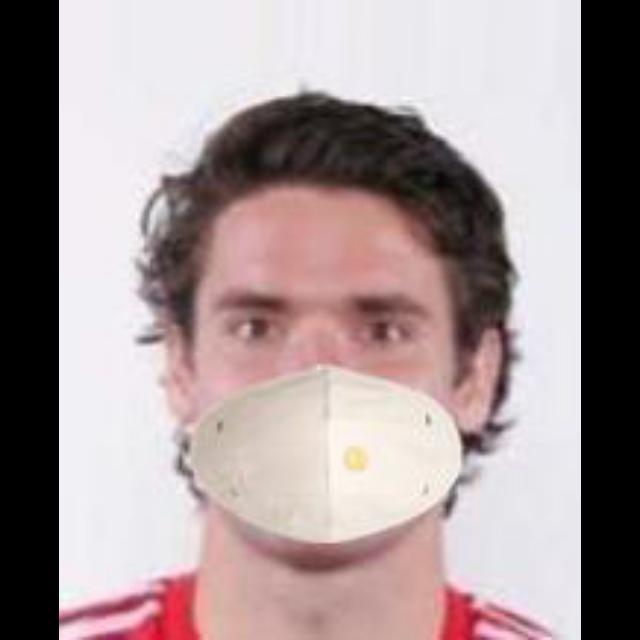suspicion: (108, 182, 548, 562)
